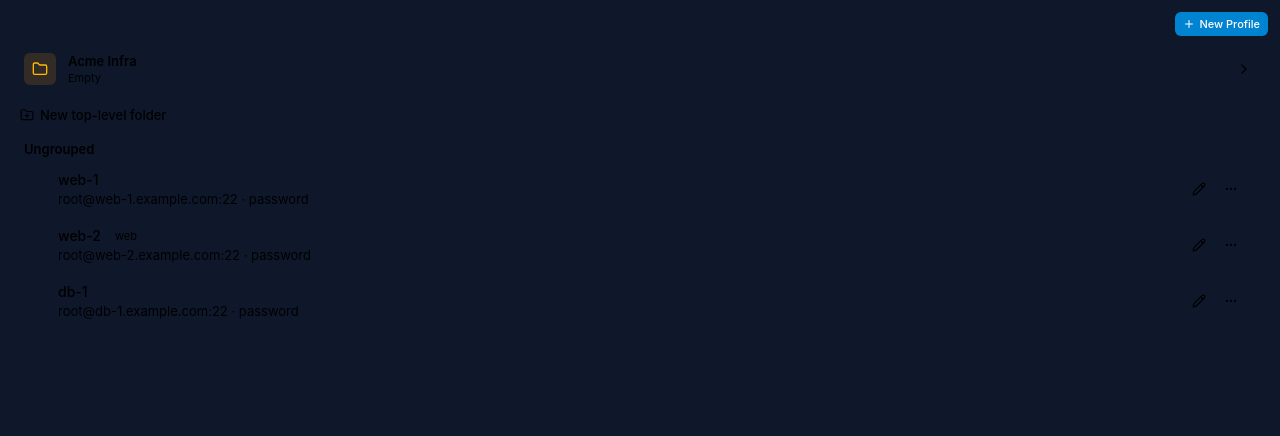
Test: TeamProfileTreeList multi-select › shows the error when the vault refuses a save, and keeps the selection
Click the 1st checkbox labelled "web-1 root@web-1.example.com:22 · password". click: (78, 180)
box: [24,164,1256,214]
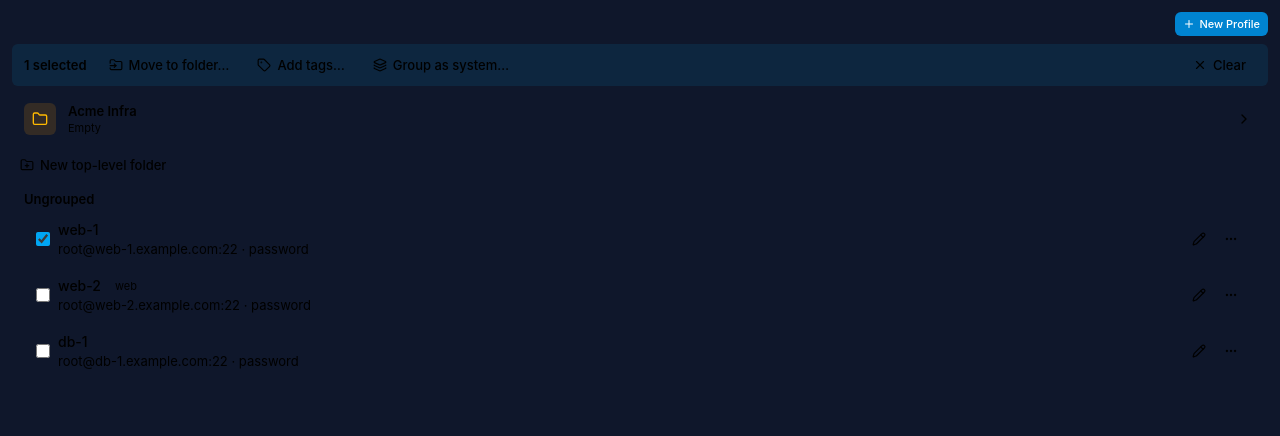
Click the button "Move to folder…". click: (169, 65)
box: [98,52,239,78]
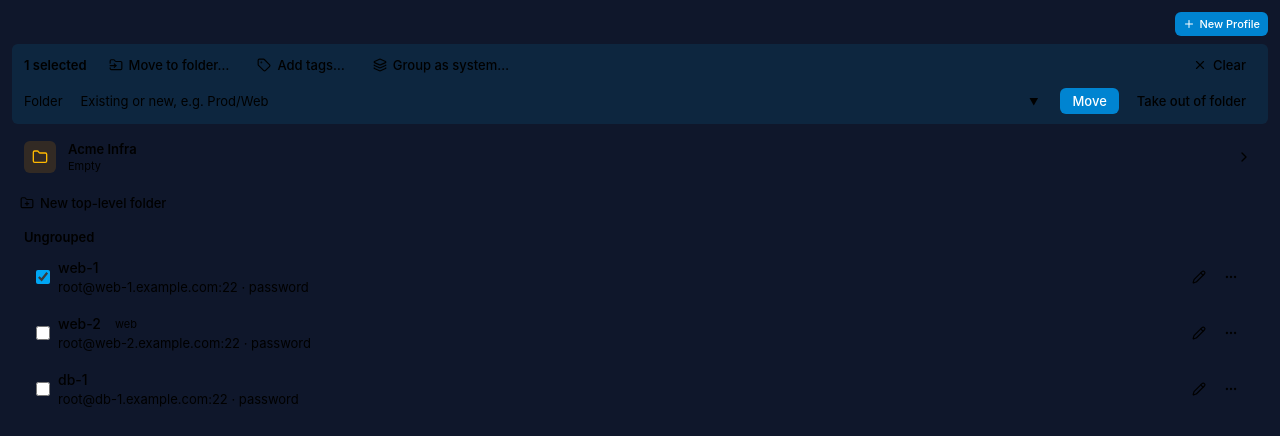
Type "Acme Infra" into the field labelled "Folder". click: (561, 101)
box: [70,86,1052,116]
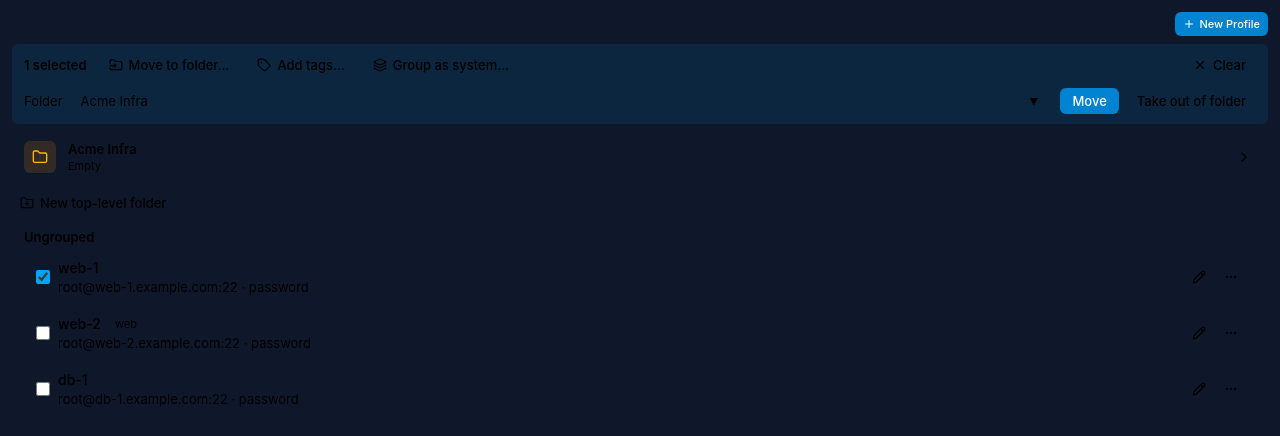
Click the button "Move". click: (1090, 101)
box: [1060,88,1119,114]
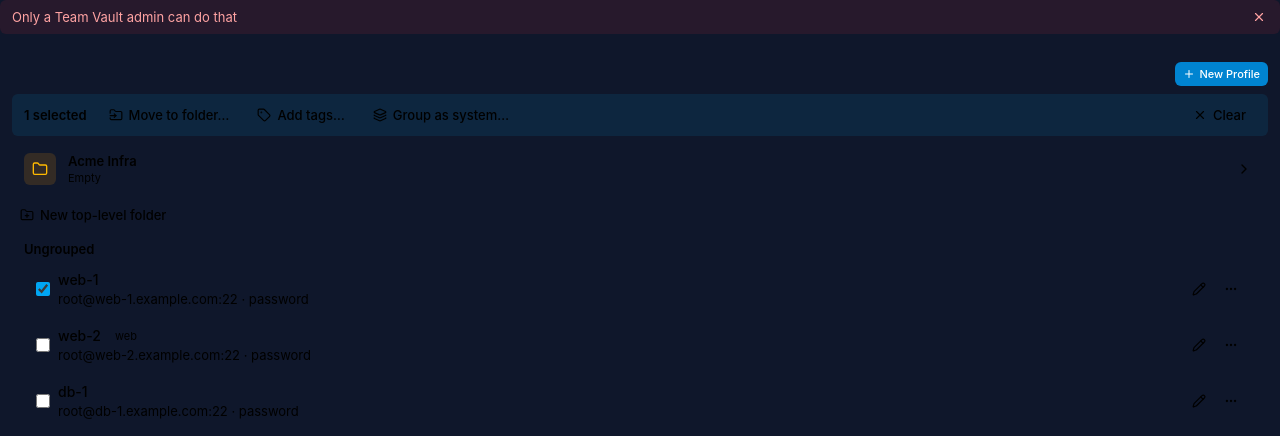
Check: the text "1 selected" is shown, box [24,106,86,124]
Check: the message reads "Only a Team Vault admin can do that", box [12,9,237,25]
